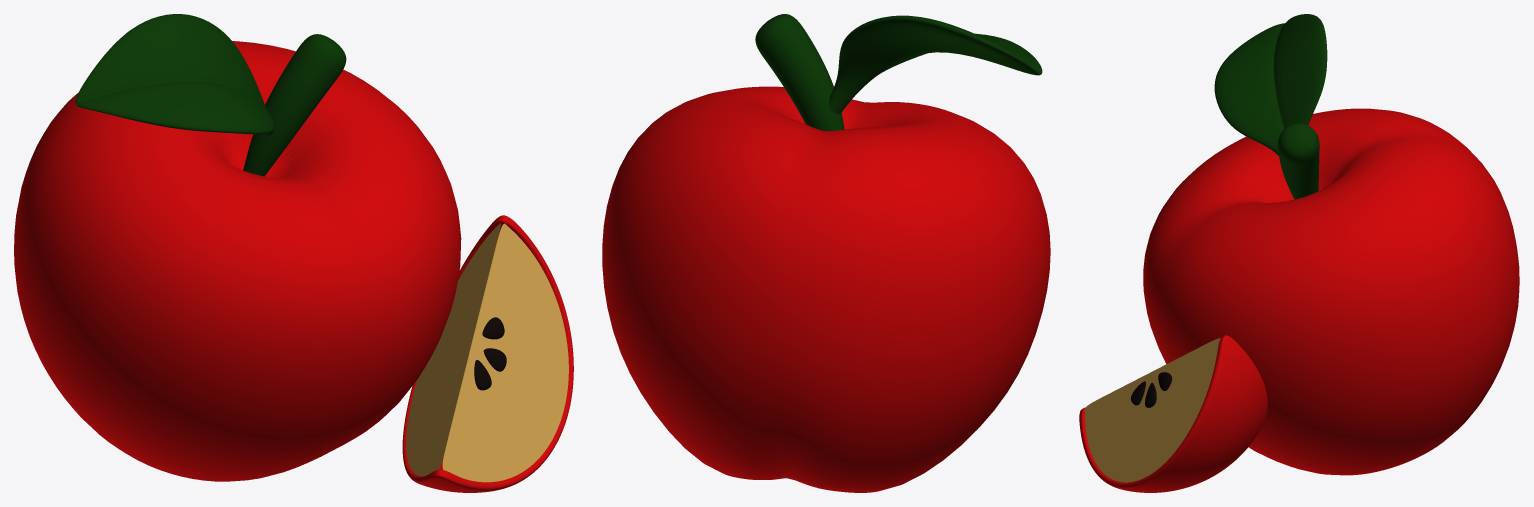
Rendered from 苹果model.fbx.
3 renders of one model, left to right at view 1: azimuth 30°, elevation 25°; view 2: azimuth 150°, elevation 25°; view 3: azimuth 270°, elevation 25°, orthographic. The views are drawn at different scales.
Parts seen in each view (by area): view 1: Sphere, Sphere_032_Sphere_024, Plane_101_Plane_105, NurbsPath, Sphere_031_Sphere_023, Plane_032_Plane_013; view 2: Sphere, Plane_101_Plane_105, NurbsPath; view 3: Sphere, Plane_101_Plane_105, Sphere_032_Sphere_024, Sphere_031_Sphere_023, NurbsPath, Plane_032_Plane_013.
Part boxes in pixels (box(x1,y1,x2,y2)): Sphere: box(14, 41, 461, 481); Sphere_032_Sphere_024: box(406, 223, 568, 482); Plane_101_Plane_105: box(75, 14, 274, 135); NurbsPath: box(243, 34, 346, 176); Sphere_031_Sphere_023: box(402, 215, 573, 492); Plane_032_Plane_013: box(474, 317, 506, 390); Sphere: box(602, 86, 1050, 492); Plane_101_Plane_105: box(829, 15, 1042, 113); NurbsPath: box(755, 14, 844, 130); Sphere: box(1143, 108, 1519, 475); Plane_101_Plane_105: box(1214, 14, 1327, 155); Sphere_032_Sphere_024: box(1085, 338, 1220, 482); Sphere_031_Sphere_023: box(1079, 335, 1267, 492); NurbsPath: box(1278, 123, 1319, 199); Plane_032_Plane_013: box(1131, 372, 1172, 407).
Size of the model in its own units: 7.72 by 7.84 by 7.95.
